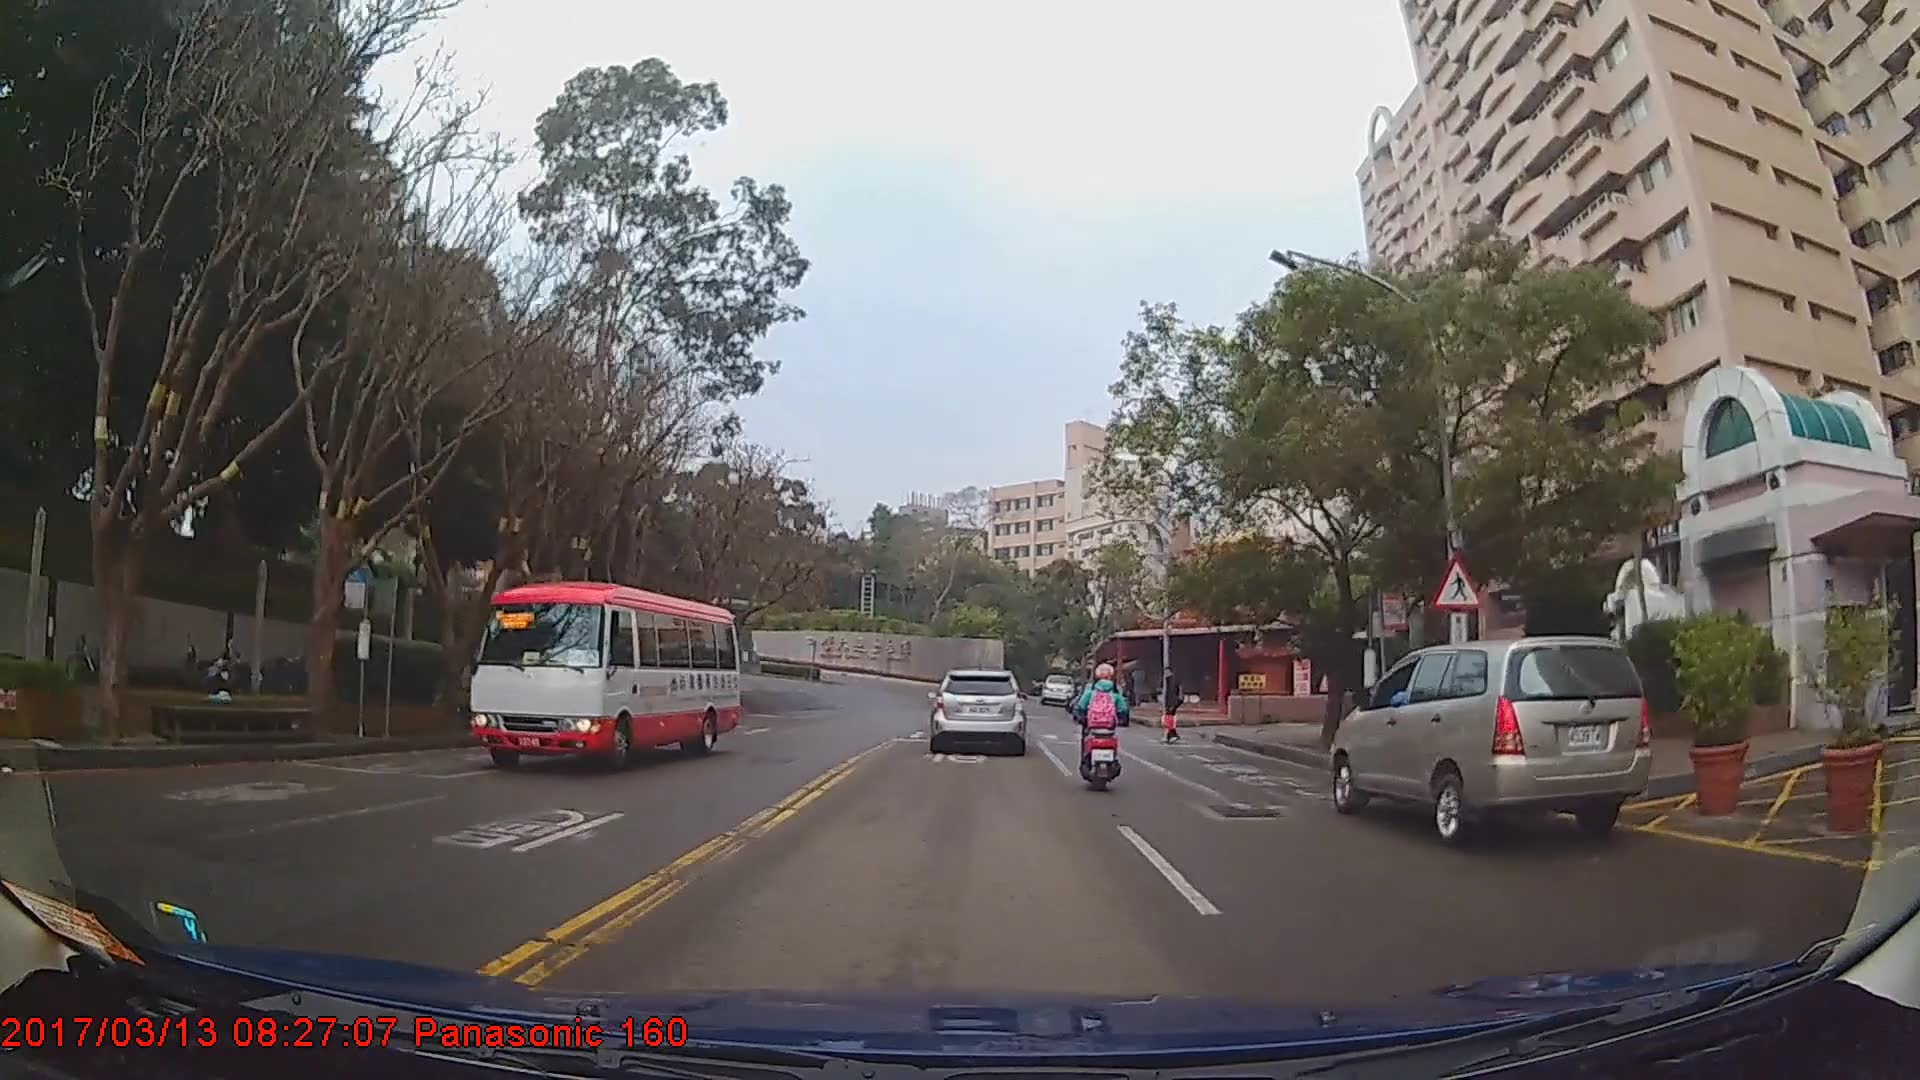pedestrian: (1160, 668, 1188, 748)
rider: (1072, 665, 1129, 795)
vehicle: (1329, 632, 1655, 845), (464, 579, 738, 770), (925, 669, 1027, 755), (1040, 672, 1075, 703)
